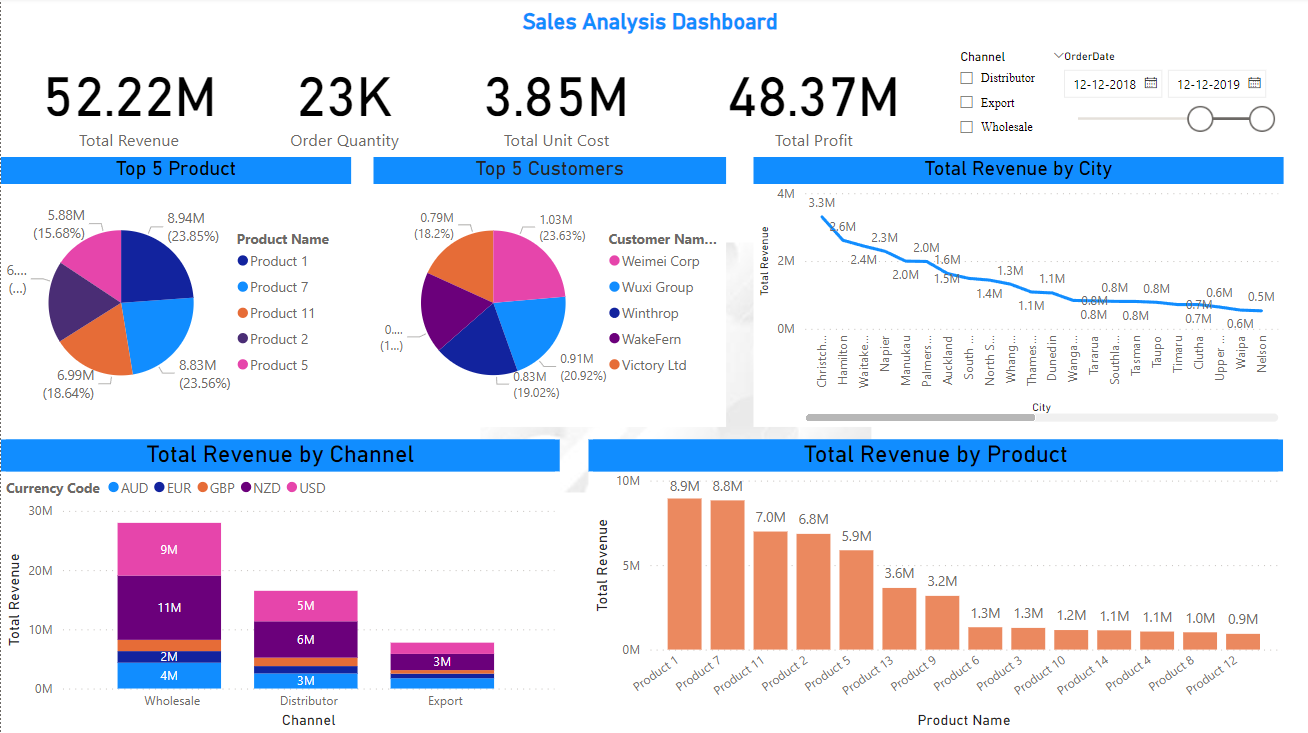

The page's visual inventory and layout, read from the dashboard file:
{"tool":"powerbi","page":{"name":"Page 1","canvas":[1280,720],"ordinal":0},"visuals":[{"type":"columnChart","title":"Total Revenue by Product","fields":{"Y":["Sum(Sales_Data.Total Revenue)"],"Category":["Products_Data.Product Name"]},"box":[574.9,432.6,679.1,287.4],"z":0},{"type":"columnChart","title":"Total Revenue by Channel","fields":{"Y":["Sum(Sales_Data.Total Revenue)"],"Category":["Sales_Data.Channel"],"Series":["Sales_Data.Currency Code"]},"box":[0,432.7,546.4,287.3],"z":1000},{"type":"pieChart","title":"Top 5 Product","fields":{"Category":["Products_Data.Product Name"],"Y":["Sum(Sales_Data.Total Revenue)"]},"box":[0,156.5,342.3,264],"z":2000},{"type":"lineChart","title":"Total Revenue by City","fields":{"Y":["Sum(Sales_Data.Total Revenue)"],"Category":["Regions_Table.City"]},"box":[735.9,156.5,518.3,264],"z":3000},{"type":"card","fields":{"Values":["Sum(Sales_Data.Total Revenue)"]},"box":[0,46.5,250.8,109.9],"z":4000},{"type":"card","fields":{"Values":["Sum(Sales_Data.Order Quantity)"]},"box":[250.6,46.5,171.1,110],"z":5000},{"type":"textbox","box":[0,5.6,1163.8,40.9],"z":6000},{"type":"card","fields":{"Values":["Sum(Sales_Data.Total Unit Cost)"]},"box":[421.7,46.5,243.3,110],"z":7000},{"type":"card","fields":{"Values":["Sum(Sales_Data.Total Profit)"]},"box":[665,46.5,260.4,110],"z":8000},{"type":"slicer","fields":{"Values":["Sales_Data.Channel"]},"box":[925.4,46.5,127.1,107.6],"z":9000},{"type":"slicer","fields":{"Values":["Sales_Data.OrderDate"]},"box":[1026.8,46.5,227.4,110],"z":10000},{"type":"pieChart","title":"Top 5 Customers","fields":{"Category":["Customer_Data.Customer Names"],"Y":["Sum(Sales_Data.Total Revenue)"]},"box":[364.3,156.5,344.7,264],"z":11000}]}

Visuals, with their boxes in screenshot pixels (x1, y1, x2, y2), scaled from the page's 1280x720 canvas onto the 1308x733 screenshot:
"Total Revenue by Product" columnChart: crop(587, 440, 1281, 732)
"Total Revenue by Channel" columnChart: crop(0, 441, 558, 732)
"Top 5 Product" pieChart: crop(0, 159, 350, 428)
"Total Revenue by City" lineChart: crop(752, 159, 1282, 428)
card - Sum(Sales_Data.Total Revenue): crop(0, 47, 256, 159)
card - Sum(Sales_Data.Order Quantity): crop(256, 47, 431, 159)
textbox: crop(0, 6, 1189, 47)
card - Sum(Sales_Data.Total Unit Cost): crop(431, 47, 680, 159)
card - Sum(Sales_Data.Total Profit): crop(680, 47, 946, 159)
slicer - Sales_Data.Channel: crop(946, 47, 1076, 157)
slicer - Sales_Data.OrderDate: crop(1049, 47, 1282, 159)
"Top 5 Customers" pieChart: crop(372, 159, 725, 428)
